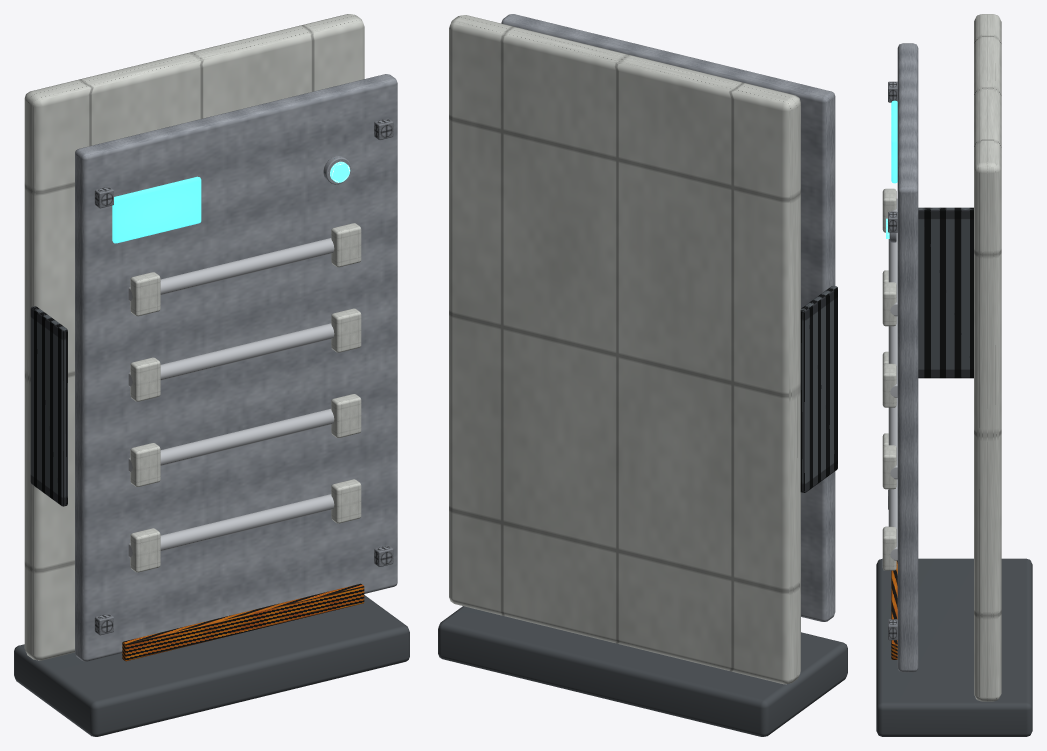
Rendered from room_l1_img2_sterile_tool_rack.glb.
3 renders of one model, left to right at view 1: azimuth 30°, elevation 25°; view 2: azimuth 150°, elevation 25°; view 3: azimuth 270°, elevation 25°, orthographic. The views are drawn at different scales.
Visible parts, largest first — view 1: tool_rack_steel_face_frame, tool_rack_rear_enamel_panel, tool_rack_shadow_plinth, tool_rack_side_vent, tool_rack_bottom_hazard_strip, tool_rack_scan_screen, tool_rack_horizontal_rail_2, tool_rack_horizontal_rail_0, tool_rack_horizontal_rail_3, tool_rack_horizontal_rail_1, tool_rack_clamp_0_l, tool_rack_clamp_3_l (+6 smaller); view 2: tool_rack_rear_enamel_panel, tool_rack_shadow_plinth, tool_rack_steel_face_frame, tool_rack_side_vent; view 3: tool_rack_shadow_plinth, tool_rack_rear_enamel_panel, tool_rack_steel_face_frame, tool_rack_side_vent, tool_rack_clamp_0_r, tool_rack_clamp_1_r, tool_rack_clamp_2_r, tool_rack_clamp_3_r, tool_rack_horizontal_rail_3, tool_rack_scan_screen, tool_rack_horizontal_rail_1, tool_rack_horizontal_rail_2 (+3 smaller).
Boxes of the visible parts, x1,y1,x2,y2 form: tool_rack_steel_face_frame: (75, 74, 397, 661); tool_rack_rear_enamel_panel: (24, 14, 364, 660); tool_rack_shadow_plinth: (14, 595, 409, 736); tool_rack_side_vent: (30, 306, 67, 506); tool_rack_bottom_hazard_strip: (122, 583, 364, 661); tool_rack_scan_screen: (112, 176, 201, 243); tool_rack_horizontal_rail_2: (128, 323, 334, 386); tool_rack_horizontal_rail_0: (128, 494, 334, 557); tool_rack_horizontal_rail_3: (128, 238, 334, 301); tool_rack_horizontal_rail_1: (128, 409, 334, 472); tool_rack_clamp_0_l: (130, 528, 160, 572); tool_rack_clamp_3_l: (130, 272, 160, 316); tool_rack_rear_enamel_panel: (449, 15, 800, 684); tool_rack_shadow_plinth: (438, 606, 847, 736); tool_rack_steel_face_frame: (501, 14, 835, 621); tool_rack_side_vent: (800, 285, 837, 492); tool_rack_shadow_plinth: (876, 558, 1032, 736); tool_rack_rear_enamel_panel: (974, 14, 1001, 701); tool_rack_steel_face_frame: (897, 43, 918, 672); tool_rack_side_vent: (918, 207, 973, 378); tool_rack_clamp_0_r: (882, 526, 896, 570); tool_rack_clamp_1_r: (882, 445, 896, 489); tool_rack_clamp_2_r: (882, 363, 896, 407); tool_rack_clamp_3_r: (882, 282, 896, 326); tool_rack_horizontal_rail_3: (888, 198, 897, 316); tool_rack_scan_screen: (891, 100, 897, 183); tool_rack_horizontal_rail_1: (888, 397, 897, 479); tool_rack_horizontal_rail_2: (888, 316, 897, 397).
Bounding box in the file's own units: 1.07 × 1.84 × 0.4512.
10 materials, 8 textured.
